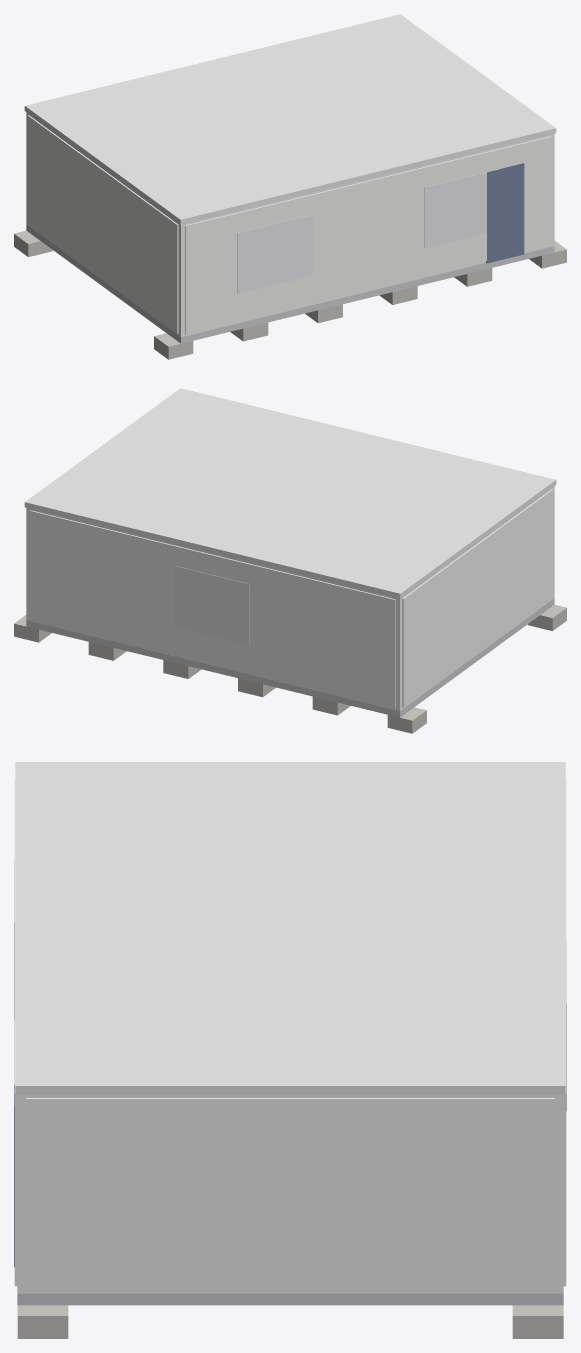
The model's file is Studio-30-Premium-LOD2.glb.
3 views of the same model, one above another, from view 1: azimuth 30°, elevation 25°; view 2: azimuth 150°, elevation 25°; view 3: azimuth 270°, elevation 25° (orthographic). The views are drawn at different scales.
Visible parts, largest first — view 1: RoofMain, ExteriorPanelsPremium, WindowsLargeUpgrade, BaseFrame, FoundationBlocks, ExteriorShell, EntryDoor; view 2: RoofMain, ExteriorPanelsPremium, WindowsLargeUpgrade, BaseFrame, ExteriorShell, FoundationBlocks; view 3: RoofMain, ExteriorPanelsPremium, BaseFrame, ExteriorShell, FoundationBlocks.
Part boxes in pixels (<box>): RoofMain: <box>24,14,556,224</box>; ExteriorPanelsPremium: <box>27,115,550,334</box>; WindowsLargeUpgrade: <box>237,169,498,293</box>; BaseFrame: <box>26,224,554,343</box>; FoundationBlocks: <box>14,230,566,359</box>; ExteriorShell: <box>26,112,554,336</box>; EntryDoor: <box>486,163,524,263</box>; RoofMain: <box>24,388,556,598</box>; ExteriorPanelsPremium: <box>30,489,553,708</box>; WindowsLargeUpgrade: <box>175,566,249,644</box>; BaseFrame: <box>26,598,554,717</box>; ExteriorShell: <box>26,486,554,710</box>; FoundationBlocks: <box>14,604,566,733</box>; RoofMain: <box>15,762,565,1094</box>; ExteriorPanelsPremium: <box>14,779,566,1290</box>; BaseFrame: <box>17,1293,563,1305</box>; ExteriorShell: <box>17,1095,563,1293</box>; FoundationBlocks: <box>17,1305,563,1338</box>.
Bounding box in the file's own units: 9.6 × 3.17 × 6.53.
